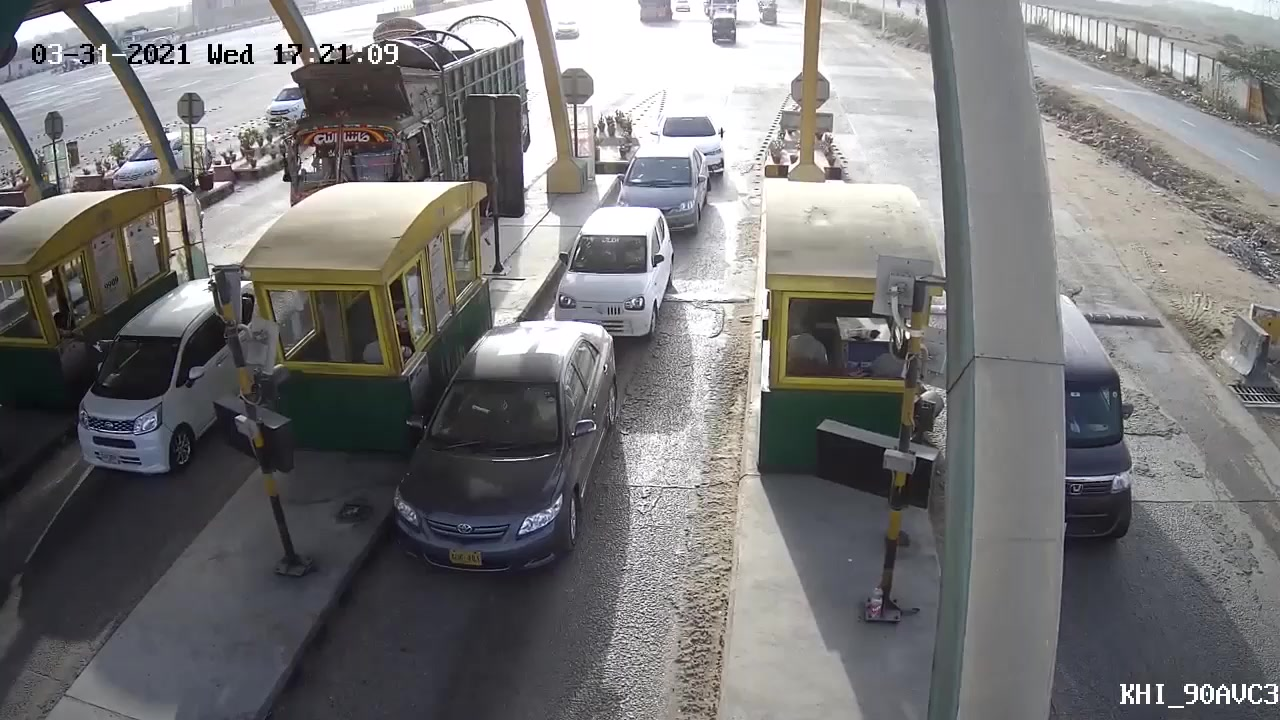F1: (364, 316, 614, 603), (546, 206, 685, 352)
